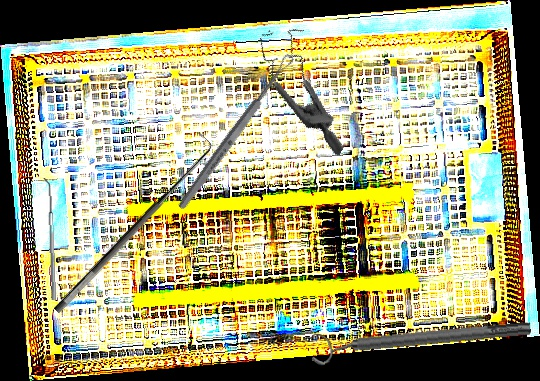Fixation Ring: (309, 312, 533, 367)
Hook Surgical: (40, 131, 220, 316)
Spatula Surgical: (42, 177, 57, 301)
Speculum: (228, 13, 385, 157)
Surgical Spoon: (175, 52, 297, 212)
